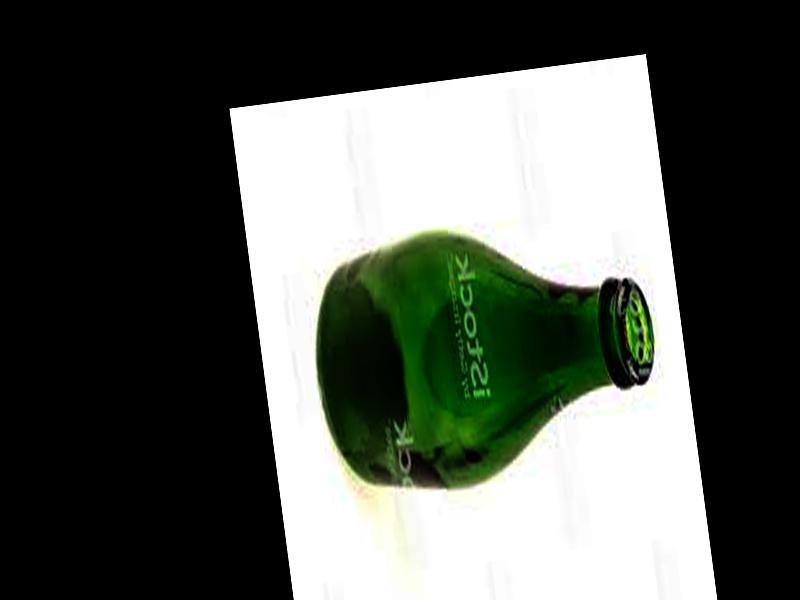Beer: (301, 205, 671, 505)
